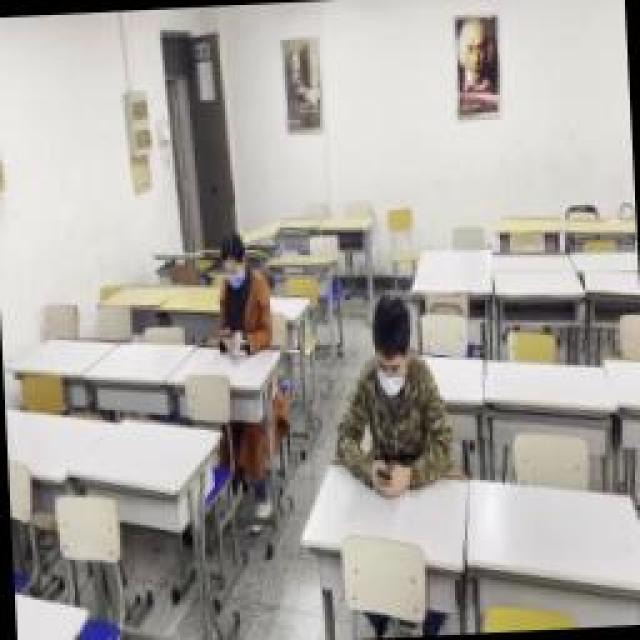phone: (327, 292, 455, 498), (210, 230, 272, 355)
